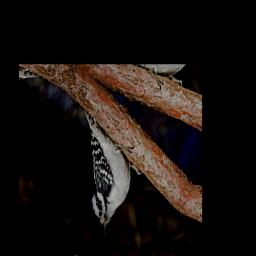Woodpecker: (46, 109, 151, 242)
